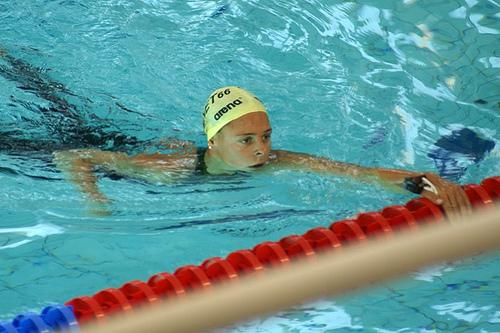swimmer: (49, 83, 471, 219)
